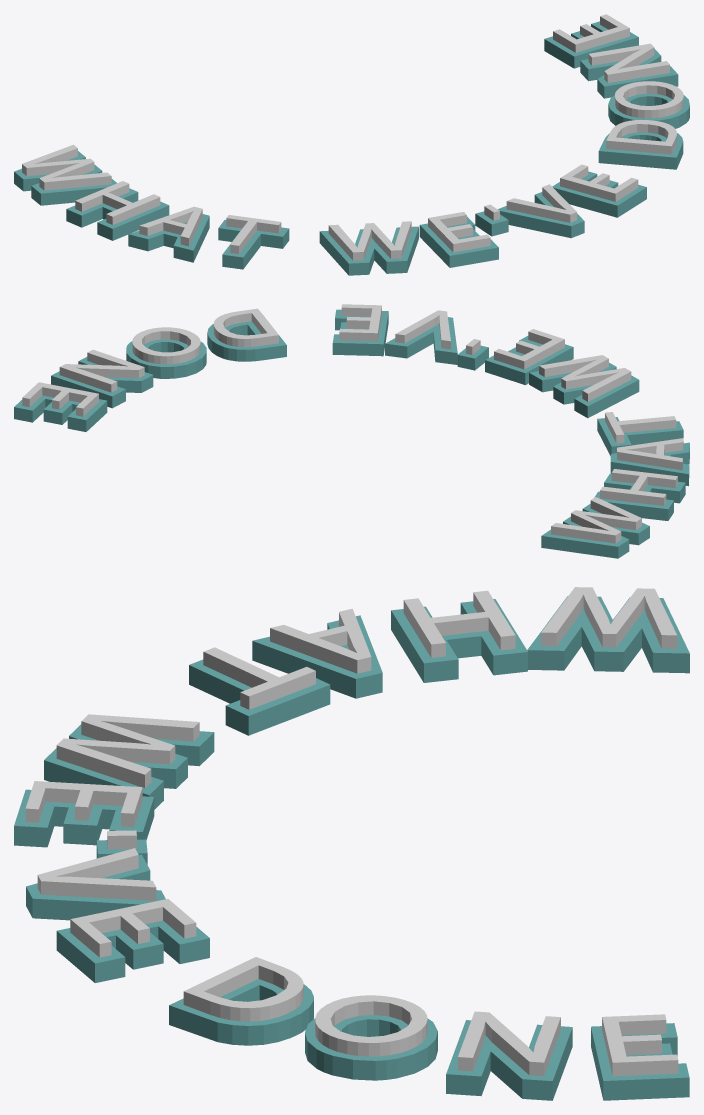
File: SIDE4-title.glb
The picture shows the model from 3 angles, top to bottom: view 1: azimuth 30°, elevation 25°; view 2: azimuth 150°, elevation 25°; view 3: azimuth 270°, elevation 25°; orthographic projection. The views are drawn at different scales.
Visible parts, largest first — view 1: Mesh_Mesh_head_geo.001_lambert2SG.001; view 2: Mesh_Mesh_head_geo.001_lambert2SG.001; view 3: Mesh_Mesh_head_geo.001_lambert2SG.001.
Boxes of the visible parts, x1,y1,x2,y2 form: Mesh_Mesh_head_geo.001_lambert2SG.001: [14, 14, 689, 275]; Mesh_Mesh_head_geo.001_lambert2SG.001: [14, 304, 689, 558]; Mesh_Mesh_head_geo.001_lambert2SG.001: [14, 587, 689, 1100].
Size of the model in its own units: 206 by 6.58 by 121.
